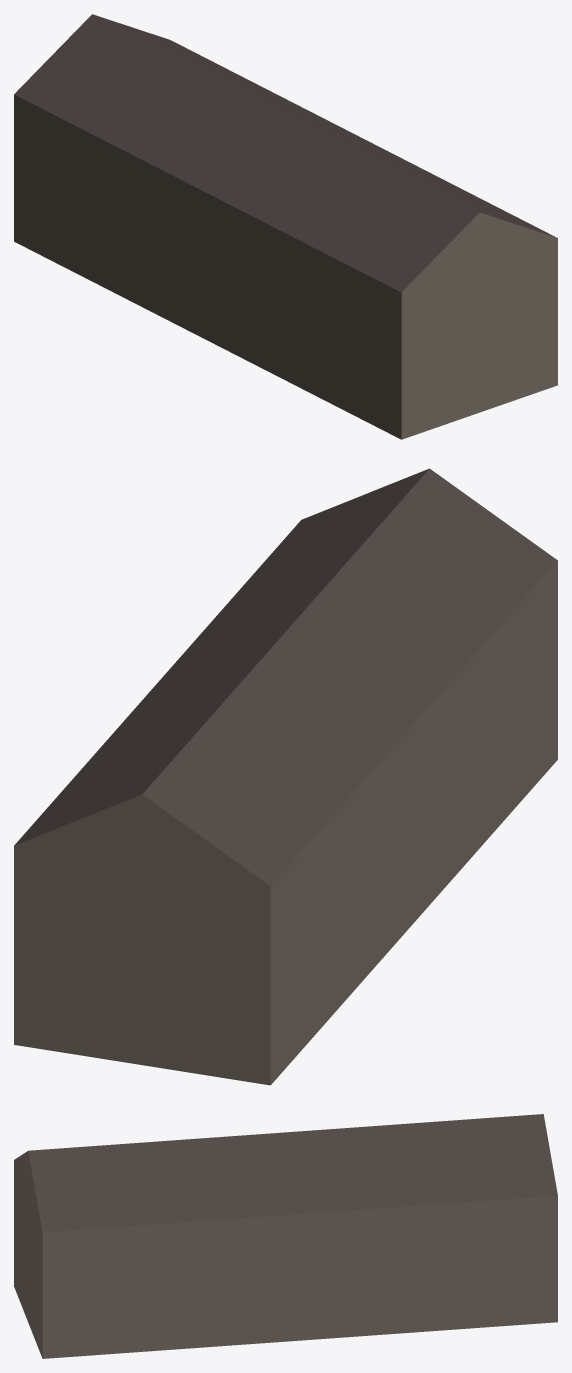
The picture shows the model from 3 angles, top to bottom: view 1: azimuth 30°, elevation 25°; view 2: azimuth 150°, elevation 25°; view 3: azimuth 270°, elevation 25°; orthographic projection. The views are drawn at different scales.
Parts seen in each view (by area): view 1: HP-w378107144; view 2: HP-w378107144; view 3: HP-w378107144.
Part boxes in pixels (x1,y1,x2,y2): HP-w378107144: [14, 14, 557, 439]; HP-w378107144: [14, 468, 557, 1085]; HP-w378107144: [14, 1114, 557, 1358].
Bounding box in the file's own units: 11.12 × 8.16 × 23.39.
